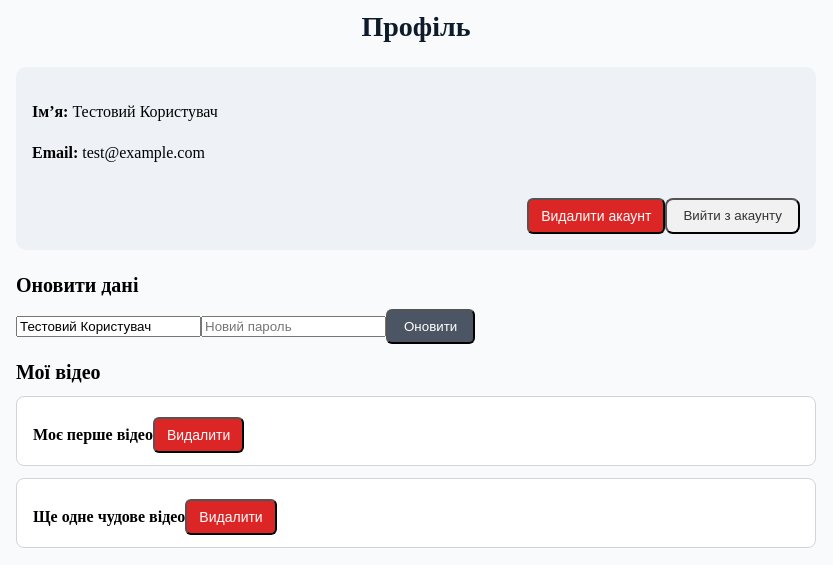
Test case: ProfilePage › handles video deletion successfully
This screenshot has width=833, height=565.
Expected: the text "Моє перше відео" is shown, [33, 426, 153, 442]
Click the button "Видалити" next to "Моє перше відео".
click(199, 434)  # box [153, 416, 244, 452]
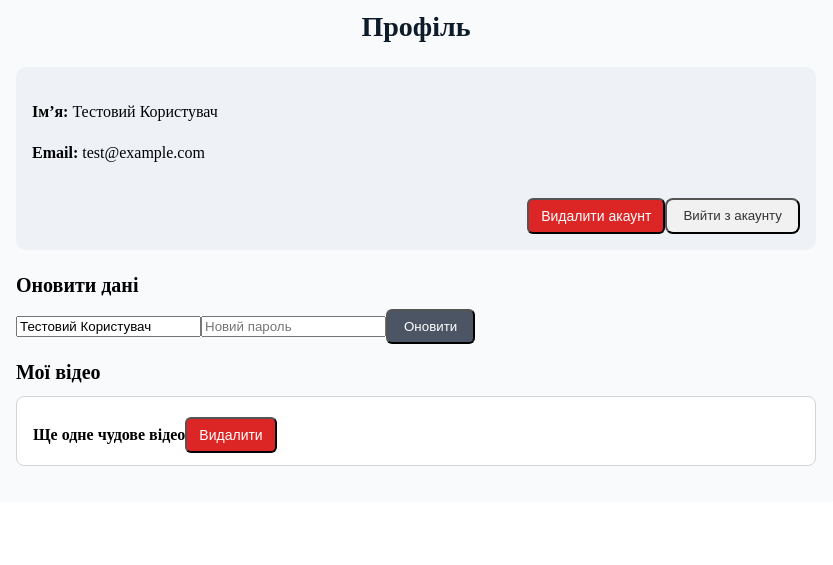
Now the text "Моє перше відео" is gone
